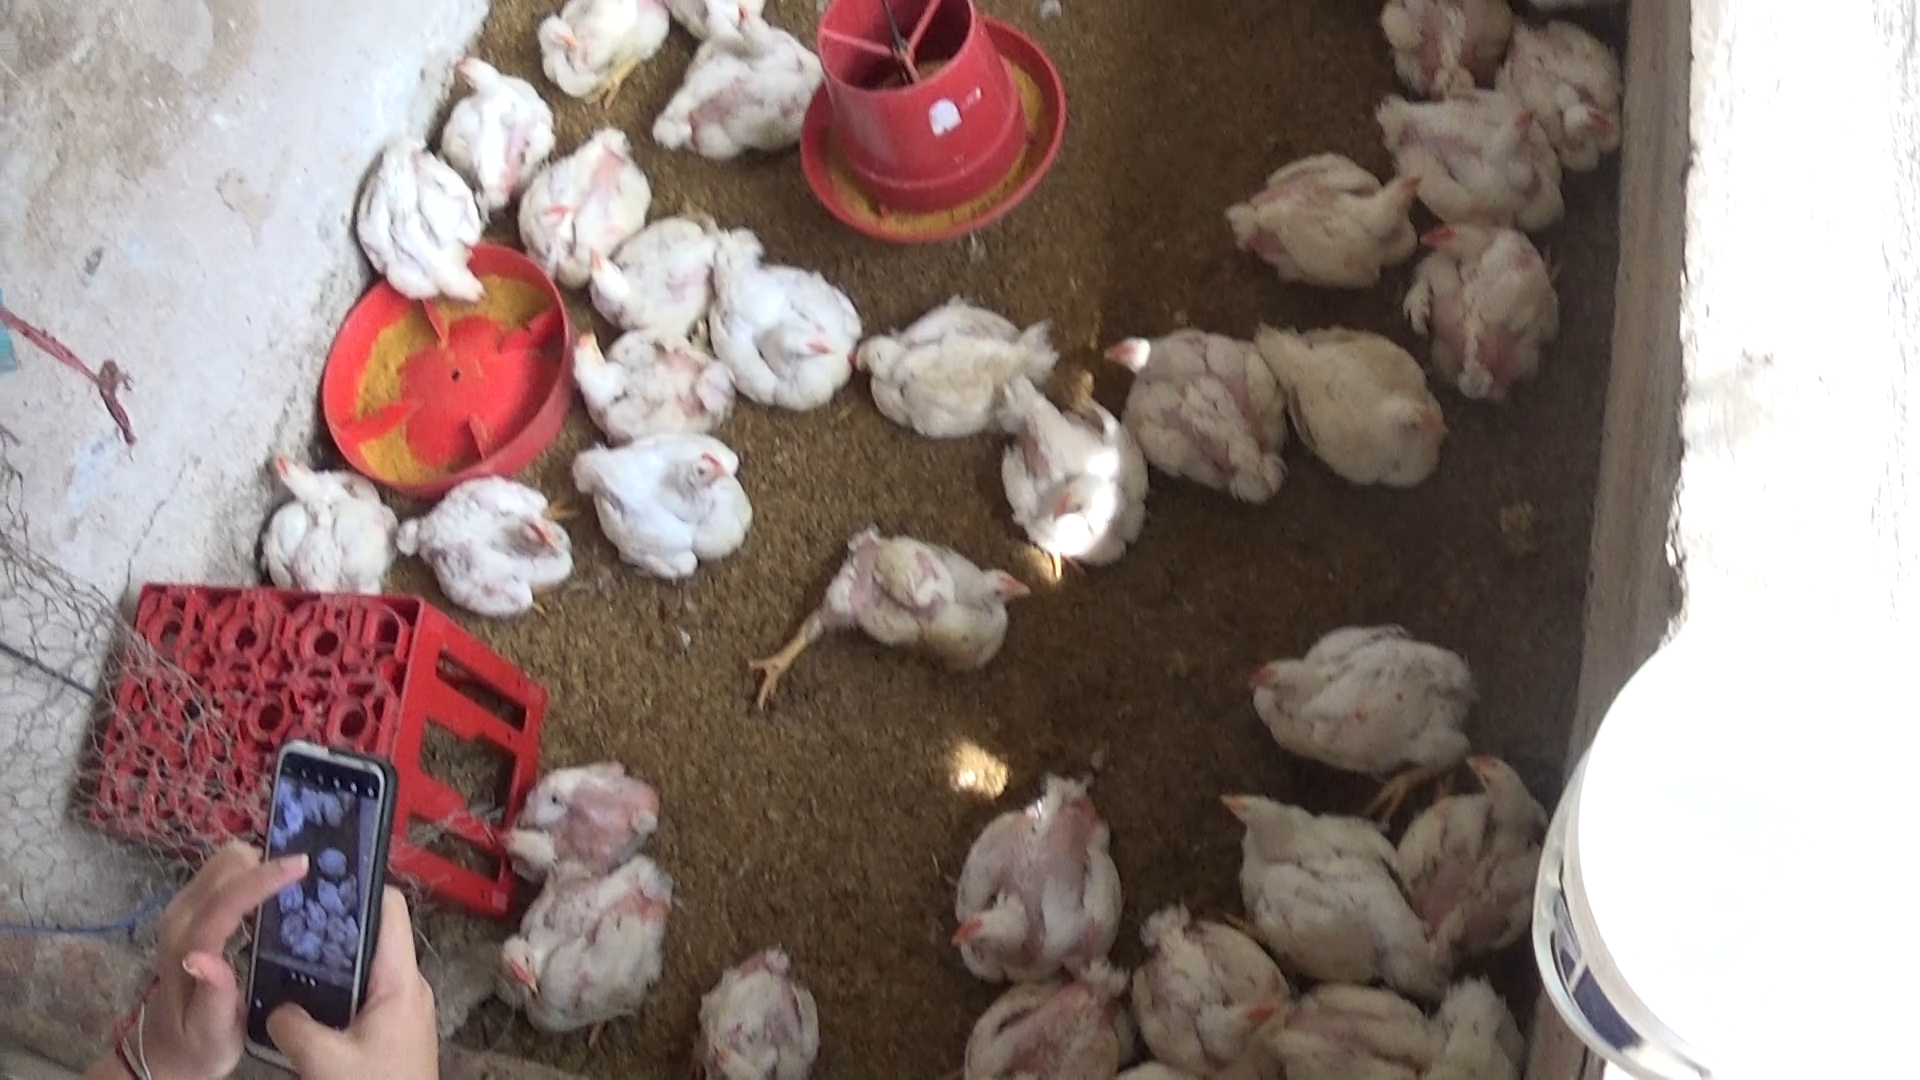Pollos: (1200, 771, 1431, 978), (942, 757, 1121, 984), (1240, 618, 1477, 787), (976, 367, 1151, 583), (1102, 320, 1286, 520), (1386, 742, 1557, 948), (791, 531, 1033, 674), (1259, 316, 1452, 495), (491, 855, 680, 1031), (698, 222, 861, 415), (1101, 902, 1291, 1065), (1404, 212, 1567, 404), (837, 305, 1054, 438), (1375, 87, 1565, 237), (571, 425, 761, 574), (1225, 146, 1418, 293), (653, 0, 836, 152), (345, 131, 492, 314), (400, 473, 571, 624), (1259, 977, 1513, 1077), (236, 438, 394, 593), (535, 320, 735, 440), (501, 123, 653, 277), (495, 752, 659, 882), (1502, 15, 1629, 173), (433, 44, 553, 208), (691, 938, 827, 1080), (571, 204, 725, 324), (533, 0, 665, 105)
